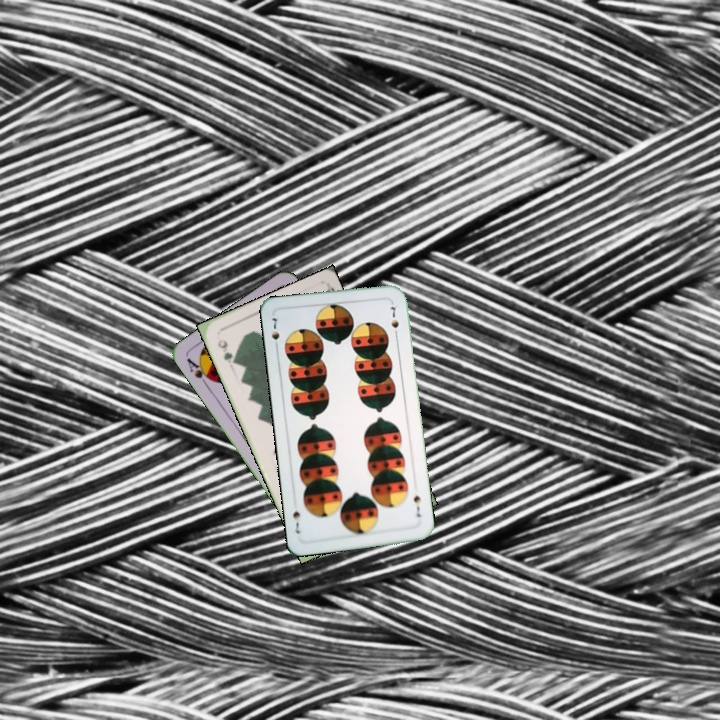G9: (213, 335, 239, 367)
S7: (267, 314, 282, 352), (409, 492, 423, 520)
SA: (182, 353, 216, 390)
